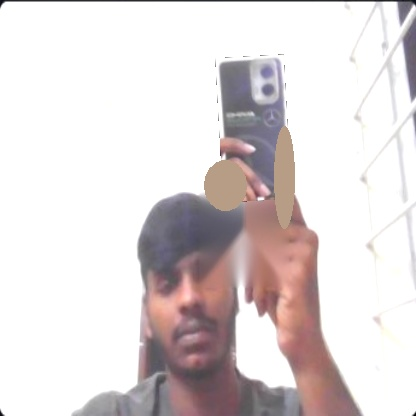cell_phone: (215, 54, 291, 202)
